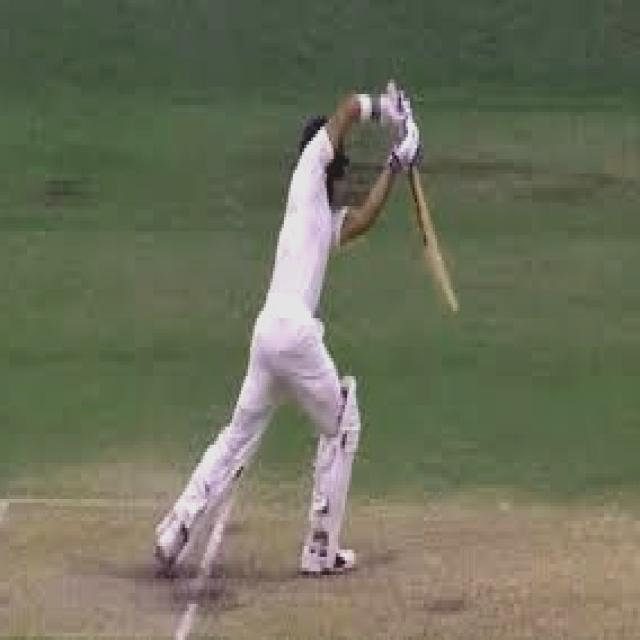bat: (405, 158, 474, 324)
toe: (430, 293, 471, 319)
